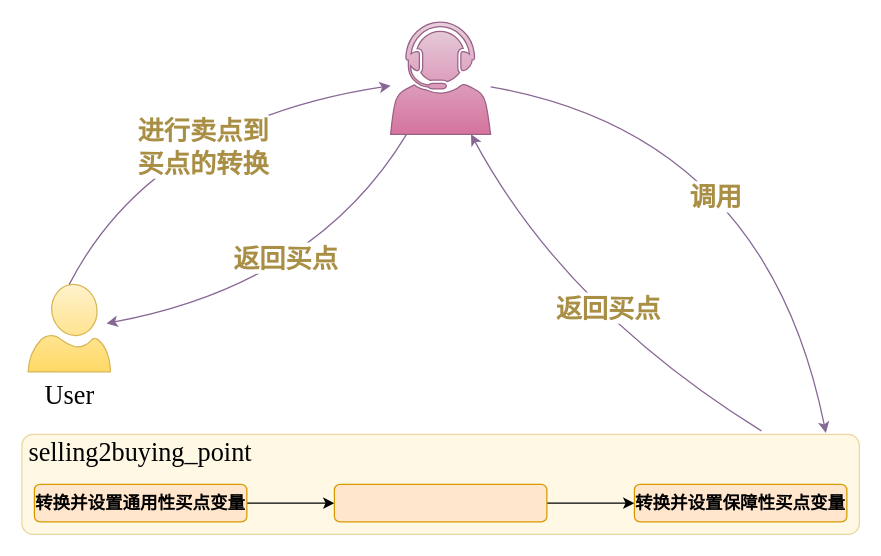
The diagram is 881 pixels wide and 556 high, and some of its shapes have lost their labels. Each missing label, with the box of its shape:
Agent: (389, 21, 491, 134)
转换并设置独特性买点变量: (333, 483, 547, 522)
